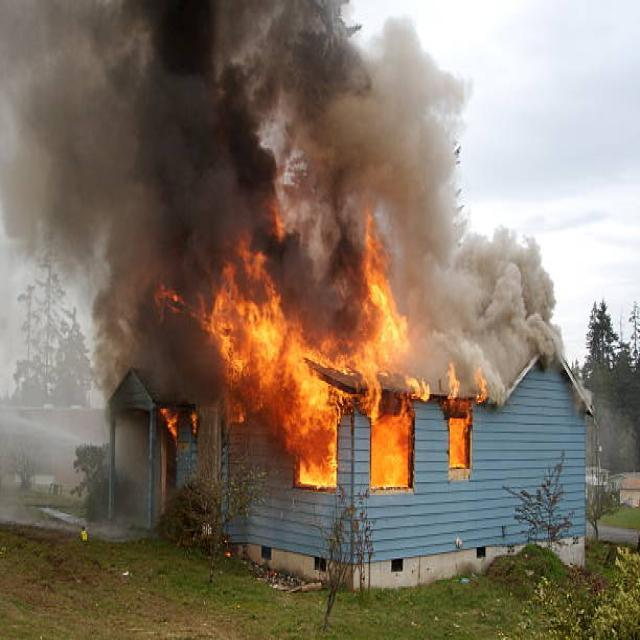Fire: (165, 212, 472, 486)
Smoke: (0, 0, 364, 420), (298, 27, 562, 387)
